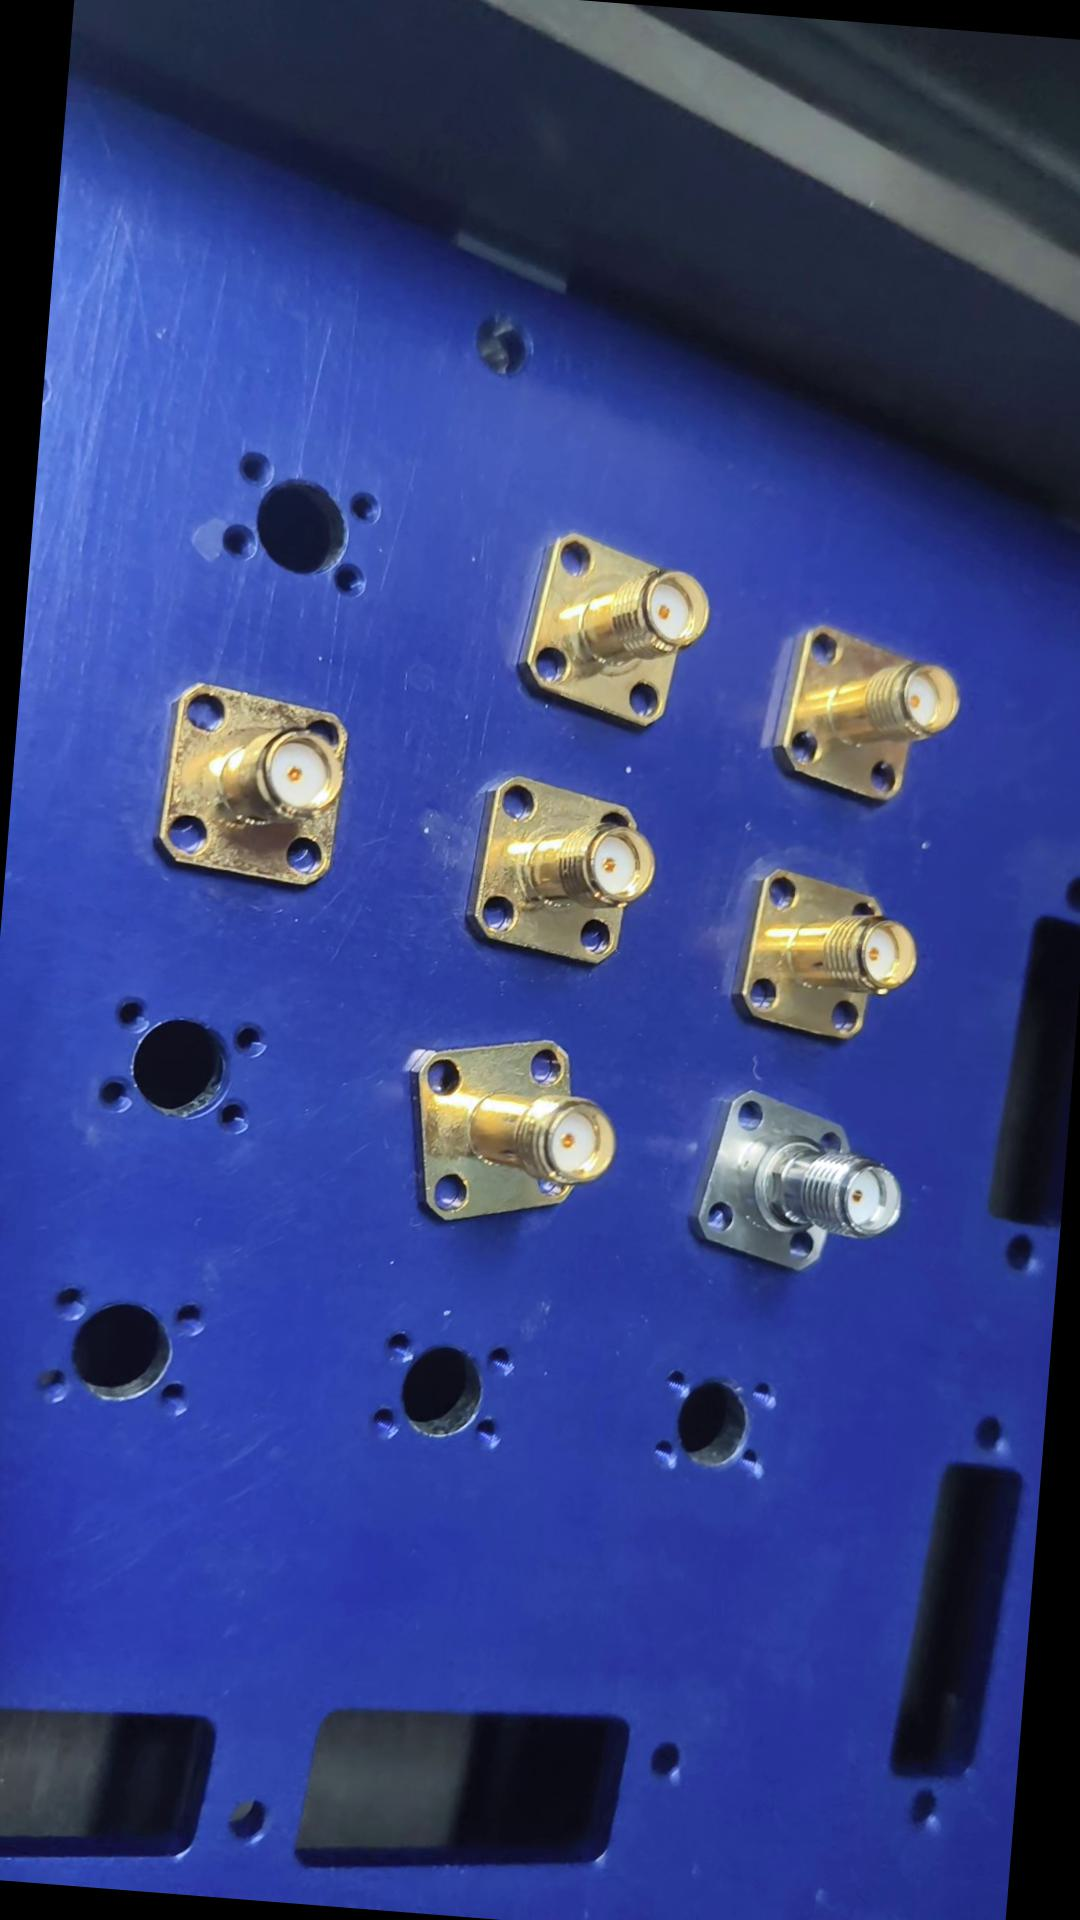SMA: (389, 1023, 624, 1242), (501, 524, 709, 735), (144, 676, 351, 887), (454, 769, 661, 971), (684, 1087, 906, 1273), (760, 622, 961, 814), (723, 866, 920, 1043)
